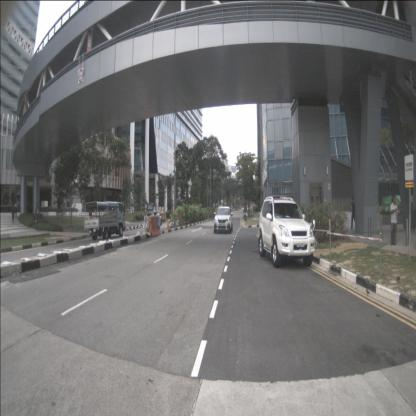human-pedestrian-adult: (390, 196, 400, 246), (350, 196, 356, 230), (34, 202, 39, 230), (11, 206, 15, 224), (14, 203, 18, 218)
movable_object-barrier: (146, 215, 162, 238)
movable_object-trafficcone: (167, 221, 170, 230)
vehicle-car: (258, 196, 315, 268), (214, 206, 233, 234), (146, 210, 162, 226)
vehicle-truck: (84, 200, 126, 240)
